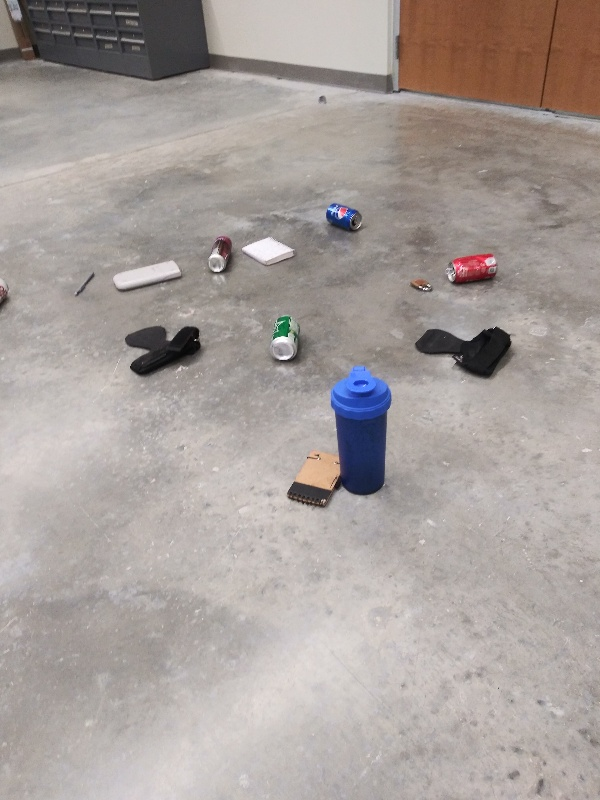can: (446, 251, 501, 289), (269, 311, 301, 360), (323, 199, 364, 233), (207, 234, 234, 277), (1, 275, 11, 310)
